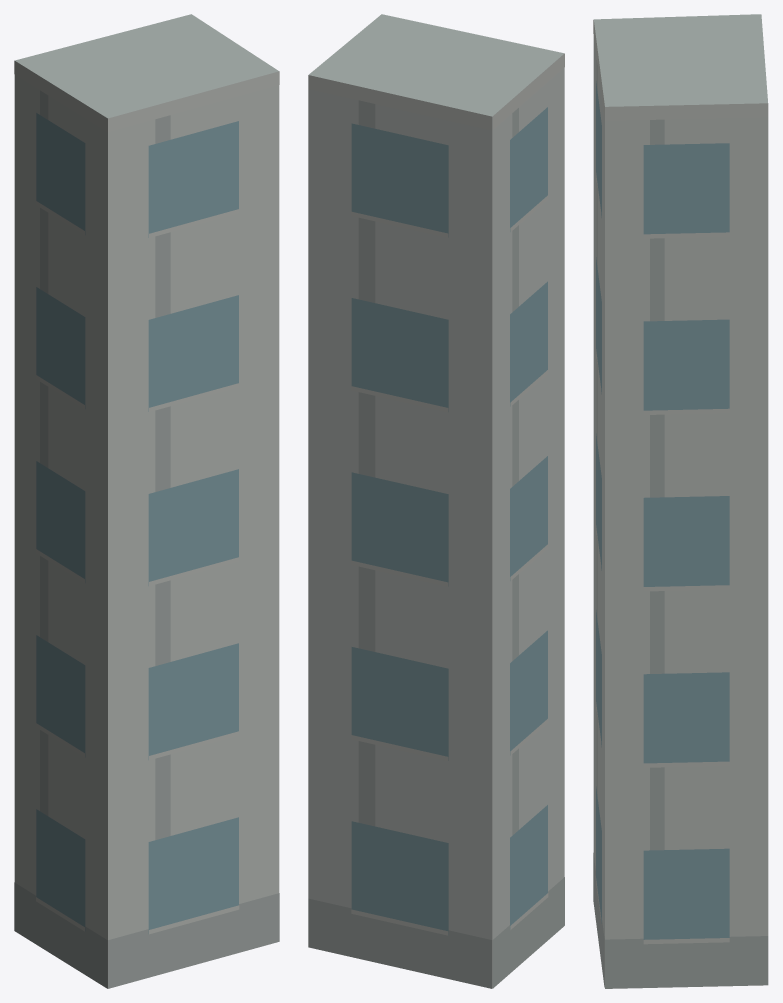
Rendered from survey-upis-32952892.glb.
3 views of the same model, side by side, from view 1: azimuth 30°, elevation 25°; view 2: azimuth 150°, elevation 25°; view 3: azimuth 270°, elevation 25° (orthographic).
Parts seen in each view (by area): view 1: survey-upis-32952892.tmp; view 2: survey-upis-32952892.tmp; view 3: survey-upis-32952892.tmp.
Boxes of the visible parts, left/top/right/bottom form: survey-upis-32952892.tmp: left=14, top=14, right=279, bottom=988; survey-upis-32952892.tmp: left=308, top=14, right=564, bottom=988; survey-upis-32952892.tmp: left=593, top=14, right=768, bottom=988.
Size of the model in its own units: 3.45 by 15.25 by 2.75.
